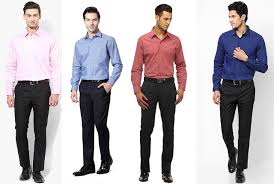F_belt: (222, 73, 257, 87), (140, 73, 177, 85), (13, 77, 53, 87), (79, 76, 111, 87)
F_dress pants: (139, 75, 176, 172), (14, 81, 52, 170), (76, 77, 114, 163), (219, 79, 253, 166)
F_shirt: (129, 24, 191, 95), (6, 23, 60, 99), (210, 26, 269, 92), (71, 29, 123, 88)
